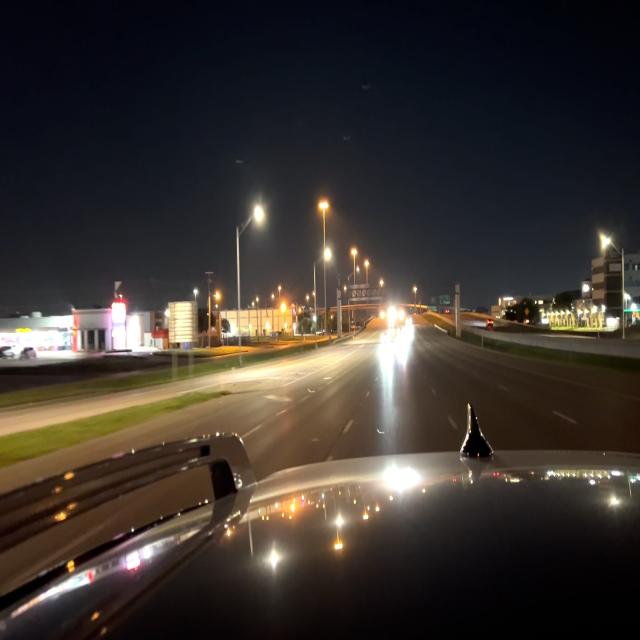back-of-sign: (169, 302, 197, 341)
